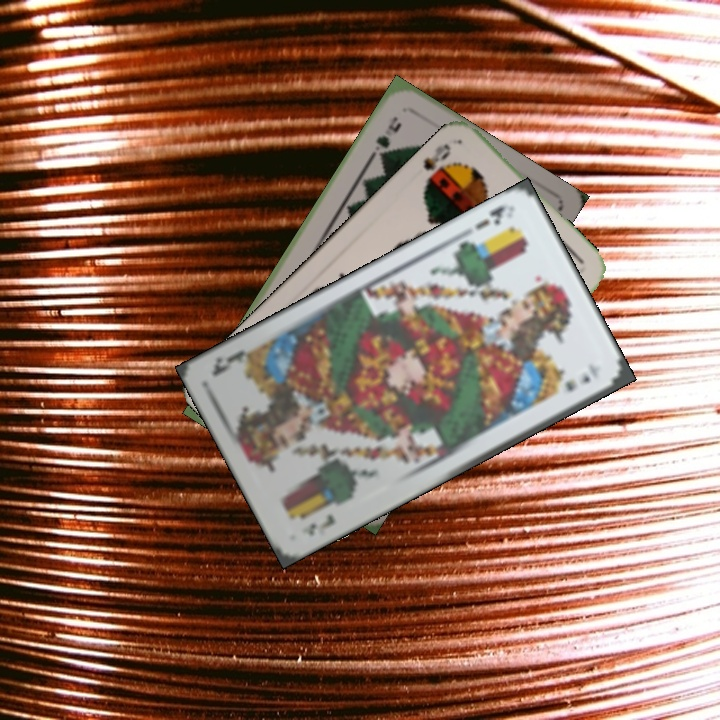EK: (471, 200, 513, 233), (298, 509, 338, 539)
G9: (367, 112, 404, 162)
SO: (419, 139, 454, 191)
